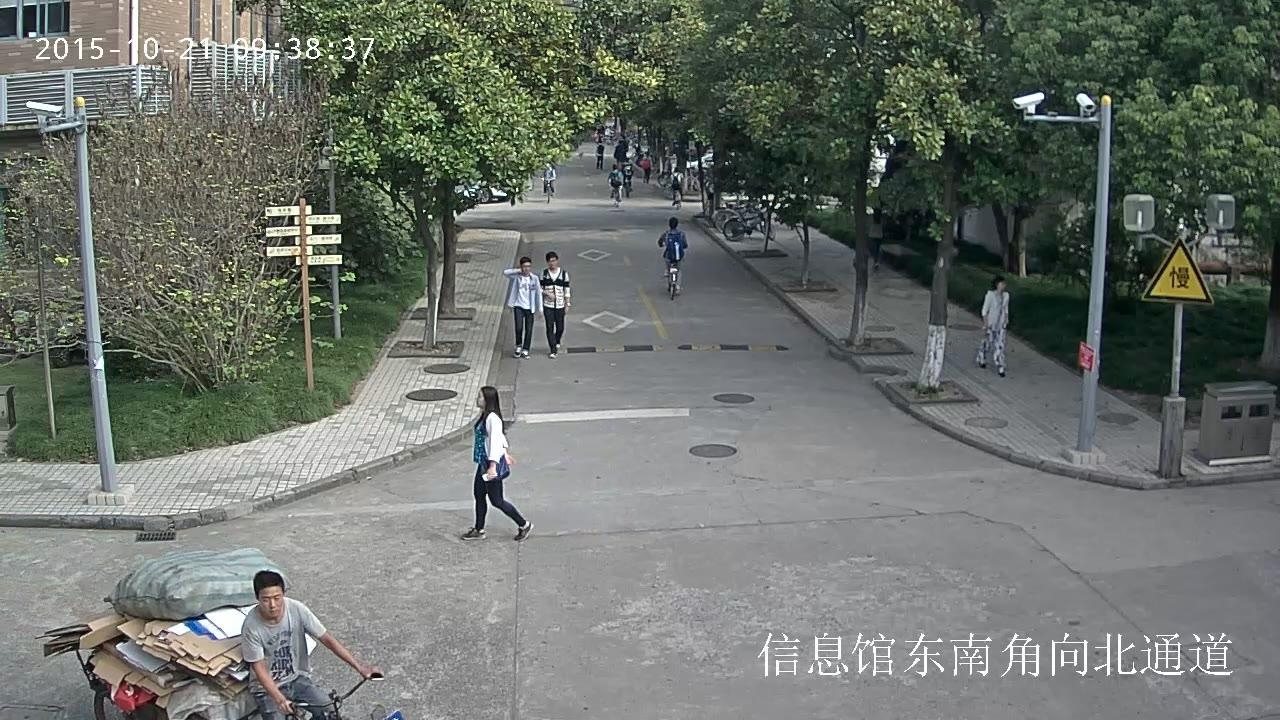person: (216, 569, 385, 720), (241, 571, 383, 720), (461, 386, 534, 541), (502, 256, 543, 358), (537, 250, 570, 358), (976, 276, 1010, 378), (657, 216, 689, 300), (658, 216, 688, 282), (670, 167, 684, 210), (608, 164, 622, 207), (620, 157, 634, 198), (542, 160, 555, 202), (670, 167, 684, 205), (608, 164, 621, 201), (621, 157, 634, 191), (543, 161, 555, 196), (614, 139, 626, 167), (642, 151, 651, 184), (596, 140, 603, 169)
